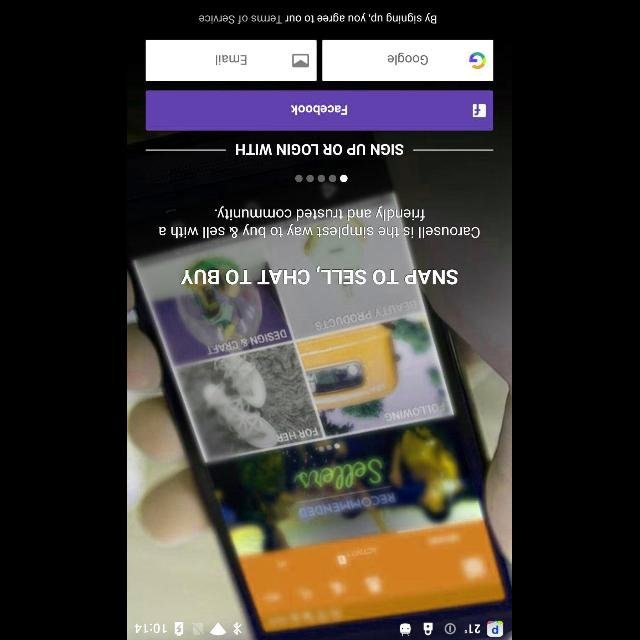backgroundimage: (129, 0, 513, 620)
pageindicator: (295, 174, 349, 182)
text: (160, 206, 480, 238), (181, 266, 459, 284), (200, 13, 436, 24), (237, 143, 405, 155)
textbutton: (146, 90, 494, 130), (146, 40, 318, 80), (322, 40, 493, 80)
uppertaskbar: (128, 620, 512, 640)
